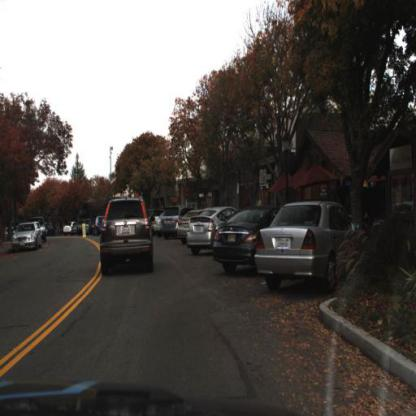car: (256, 198, 355, 294), (98, 194, 158, 280), (214, 205, 275, 276), (188, 205, 232, 253), (12, 220, 42, 252), (160, 204, 185, 242), (180, 212, 197, 247), (162, 205, 180, 237), (151, 208, 165, 237), (94, 213, 106, 233), (64, 220, 74, 235)
